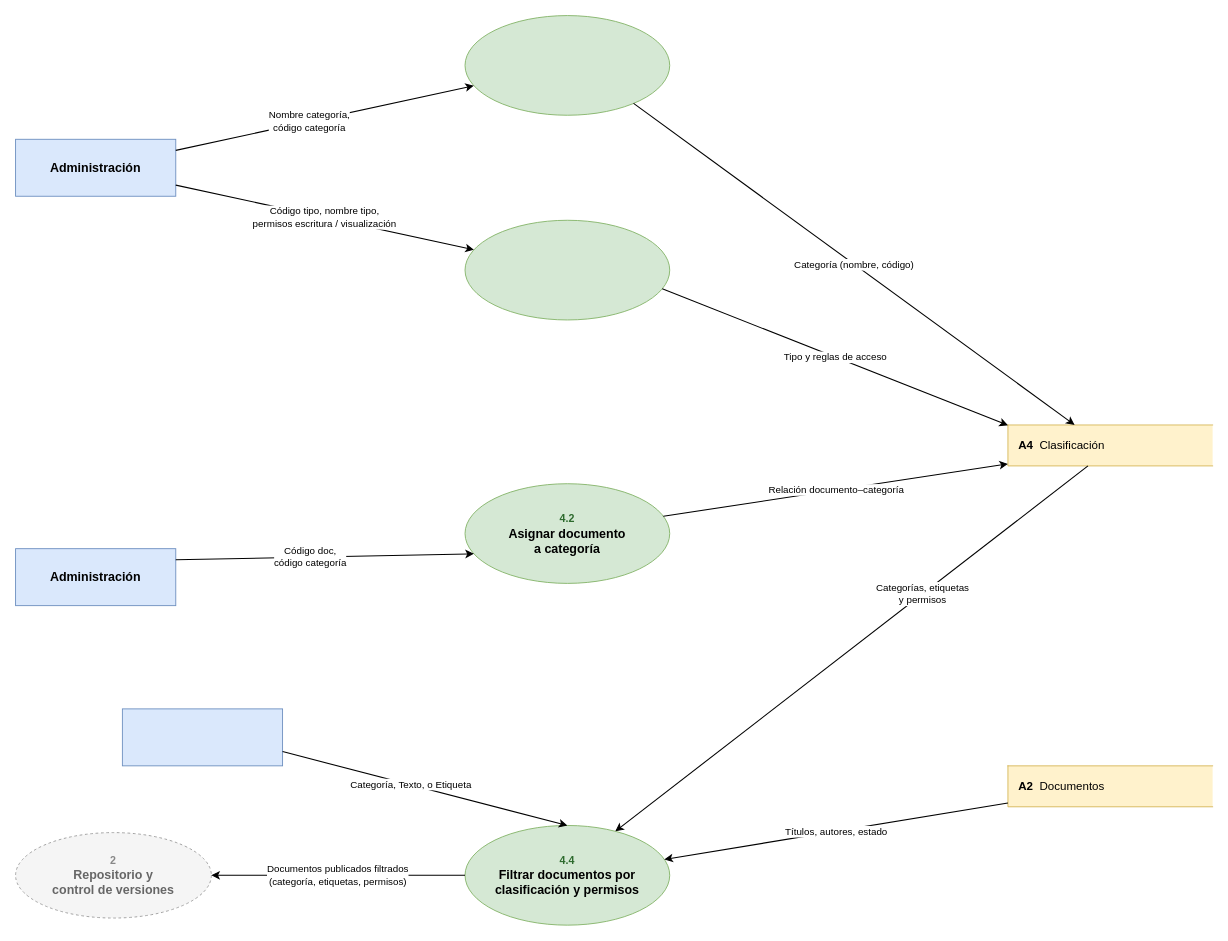
This 1228x941 diagram has some shape labels left out. The centre of each missing label's shape, as x and y in pixels:
"4.1 Gestionar categoría departamental" goes at (567,65).
"4.5 Gestionar tipos y permisos" goes at (567,269).
"Usuario" goes at (202,737).
